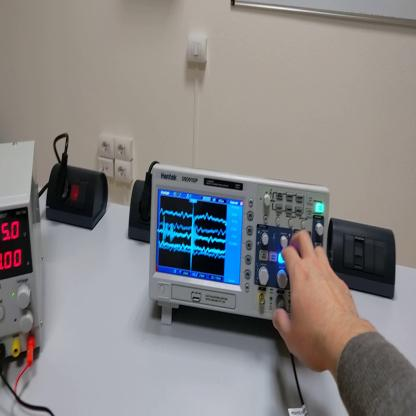hand: (275, 228, 359, 376)
oscilloscope: (146, 162, 334, 337)
power supply: (2, 136, 48, 364)
socket: (45, 168, 111, 232), (126, 179, 151, 244)
